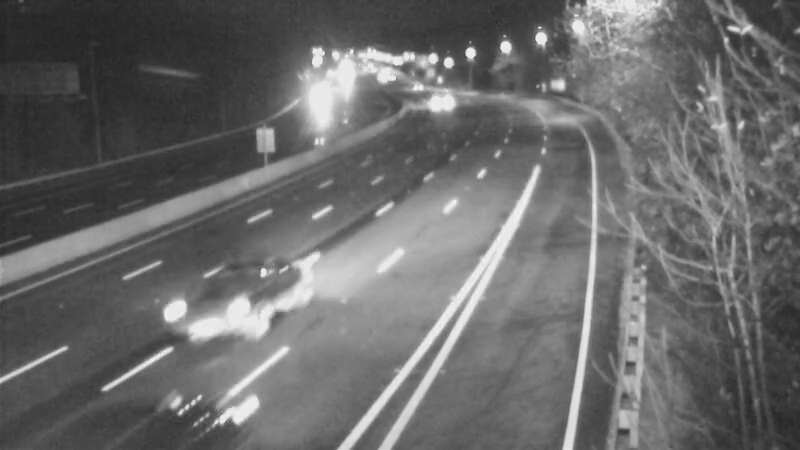vehicle: (210, 252, 290, 332), (386, 60, 436, 110), (412, 73, 462, 123), (297, 69, 347, 119)
